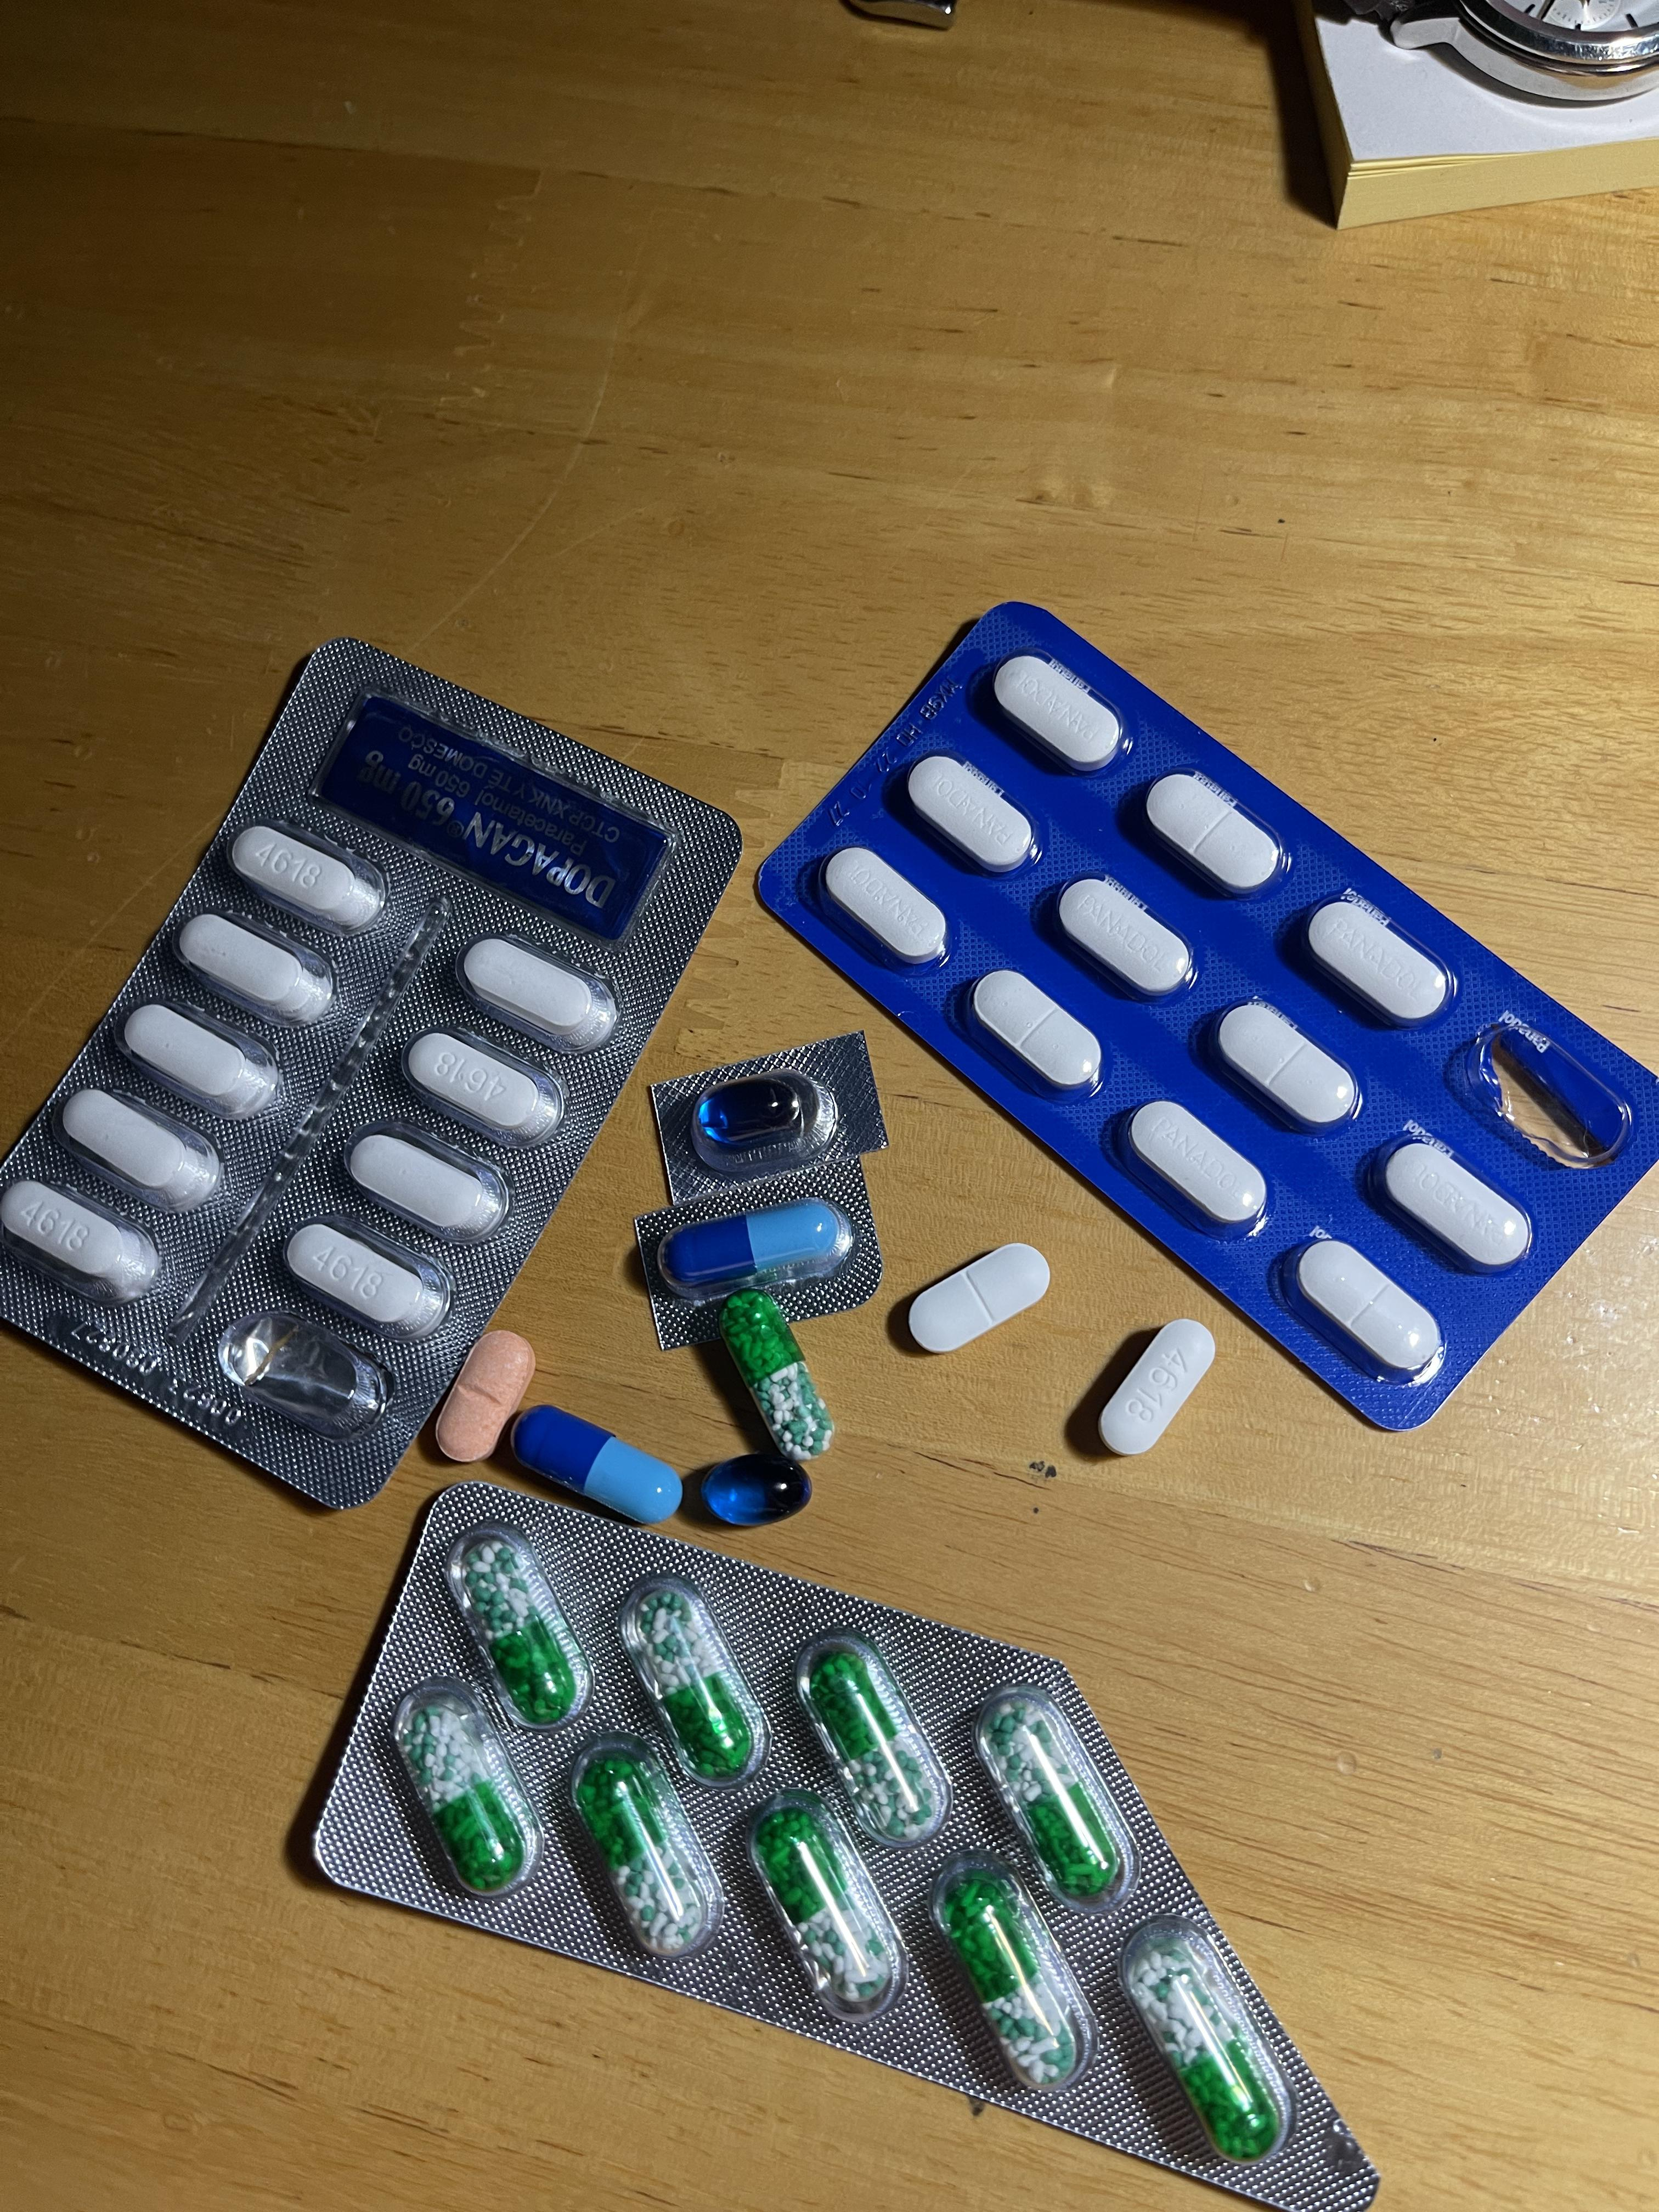Lincomyxin_500mg: (701, 1451, 812, 1524), (695, 1076, 805, 1146)
Loratadine_10mg: (434, 1324, 537, 1458)
Paracetamol_350mg: (1368, 1132, 1534, 1273), (1293, 1240, 1448, 1385), (1295, 892, 1457, 1026), (1115, 1097, 1269, 1238), (1201, 998, 1358, 1132), (1138, 772, 1284, 897), (962, 967, 1101, 1096), (1053, 876, 1195, 1000), (990, 653, 1126, 773), (901, 1244, 1044, 1355), (903, 756, 1035, 876), (819, 848, 945, 968)
Paracetamol_500mg: (3, 1174, 164, 1303), (64, 1085, 227, 1212), (282, 1219, 451, 1338), (401, 1028, 565, 1150), (120, 1003, 281, 1125), (458, 935, 620, 1052), (230, 822, 392, 935), (174, 913, 333, 1028), (350, 1132, 507, 1242), (1098, 1320, 1218, 1460)
Paracetamol_650mg: (943, 1867, 1086, 2104), (1129, 1944, 1272, 2156), (755, 1808, 887, 2015), (577, 1754, 708, 1951), (985, 1702, 1114, 1893), (812, 1653, 939, 1836), (403, 1702, 521, 1888), (638, 1595, 753, 1777), (462, 1543, 579, 1714), (718, 1291, 833, 1463)
pill: (511, 1404, 685, 1522), (659, 1197, 847, 1298)
